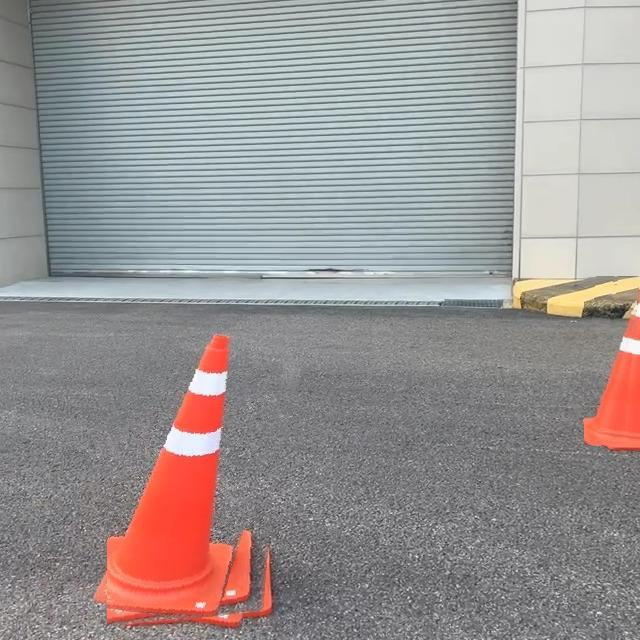fallen_object: (85, 299, 301, 626), (560, 287, 640, 458)
